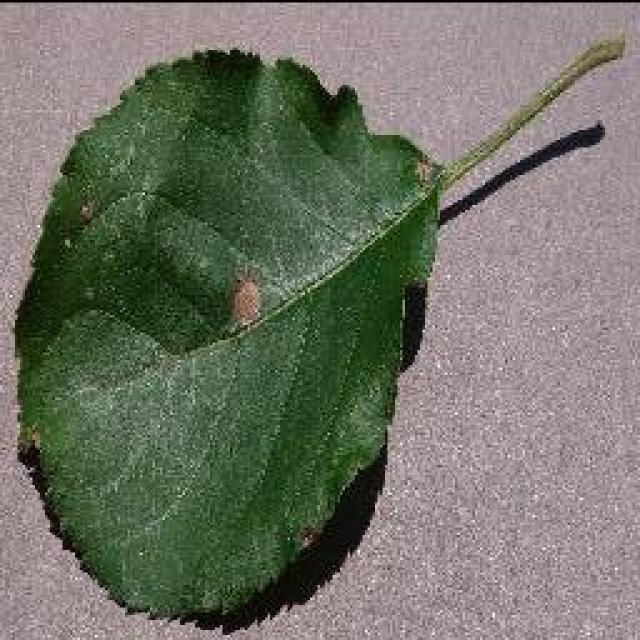Black_rot: (10, 30, 625, 622)
